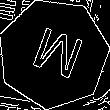M_S: (23, 22, 84, 85)
